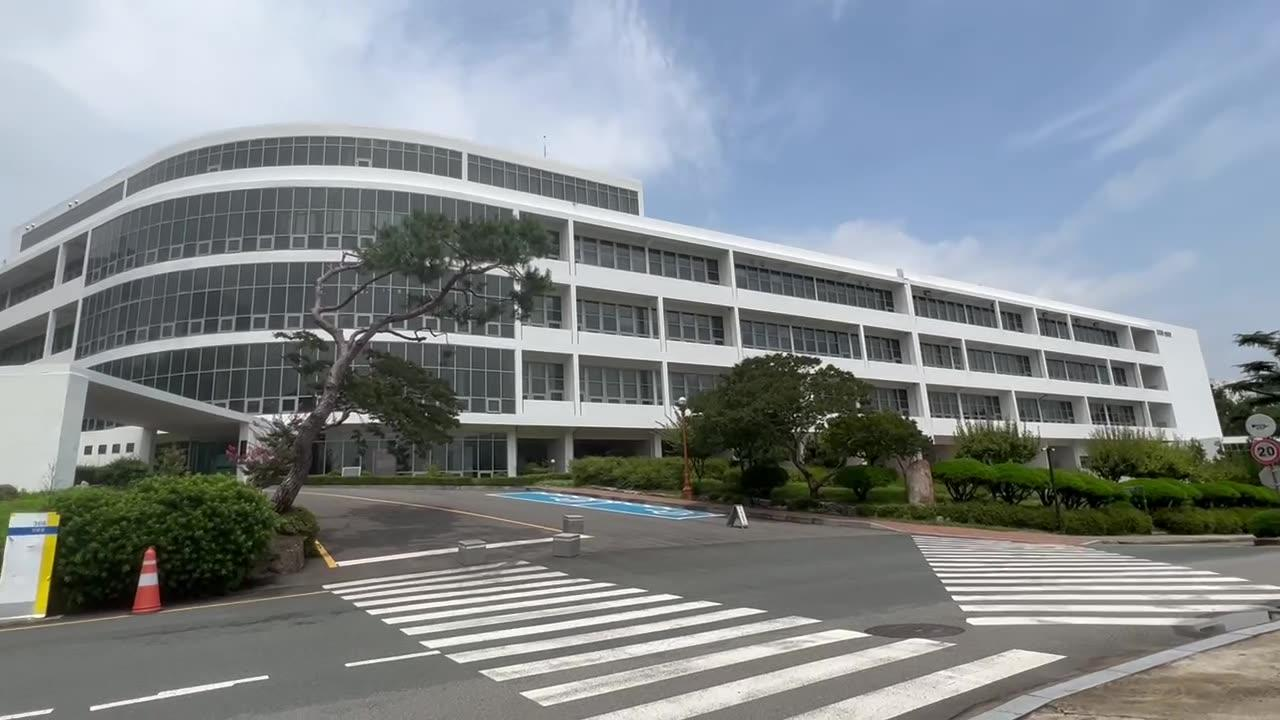building: (52, 144, 1193, 400)
